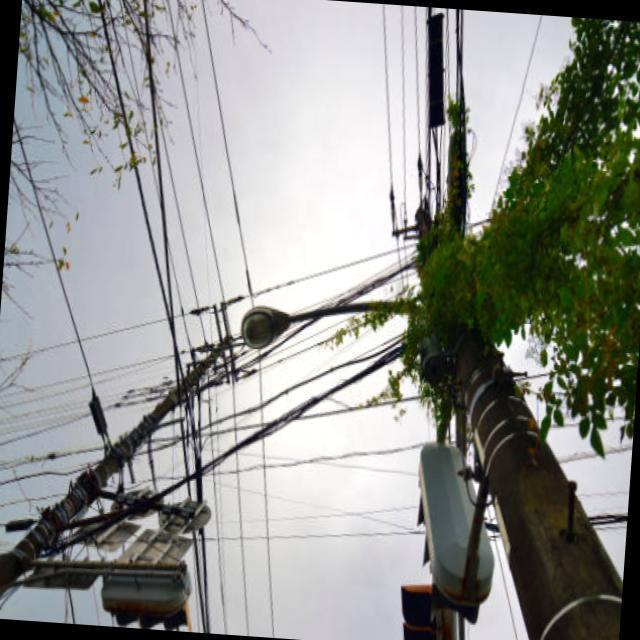critical vegetation: (374, 152, 543, 395)
